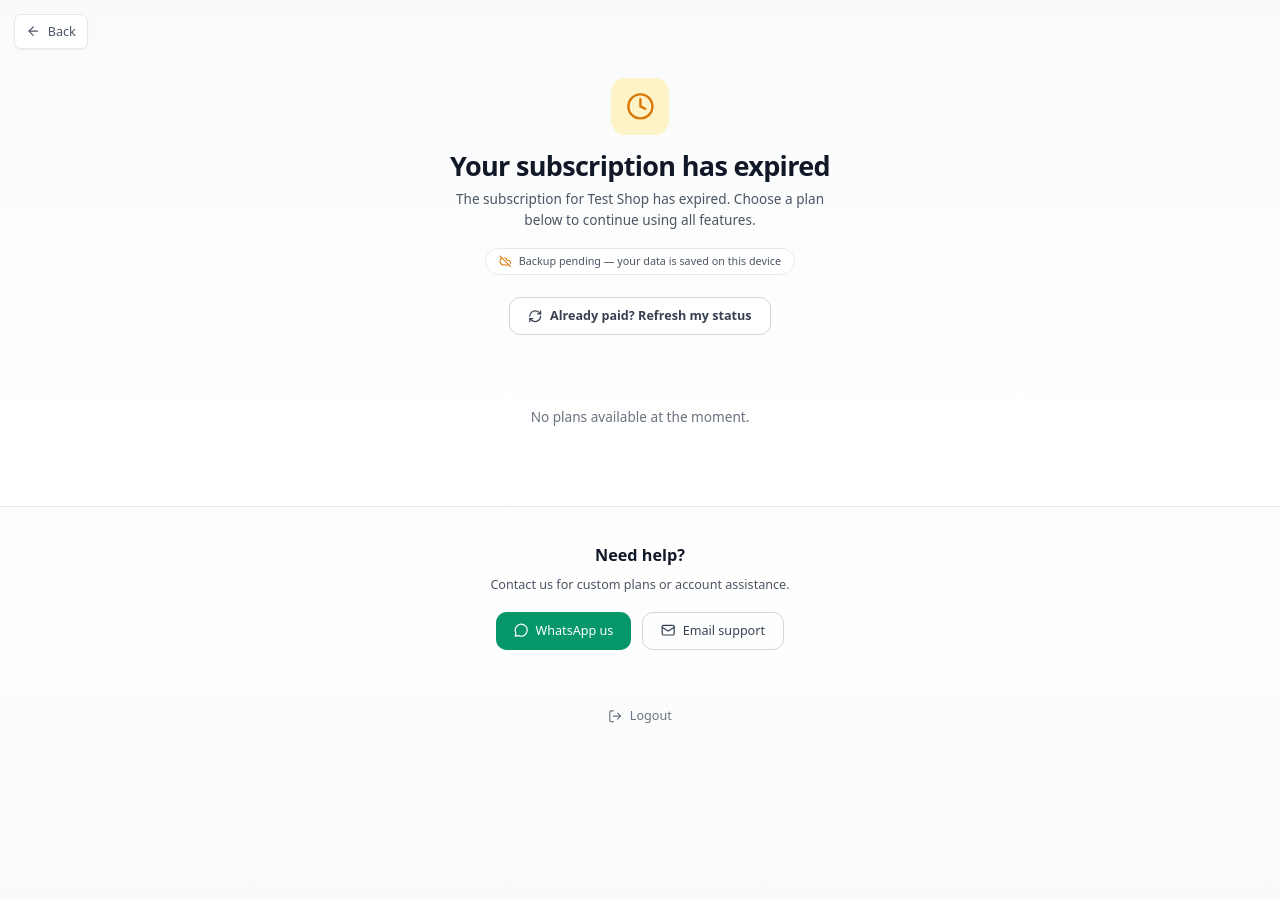
Test: TrialExpired — "already paid" recovery › distinguishes being offline from having no payment
Click the button "Already paid? Refresh my status" at (640, 316), box [509,297,771,335]
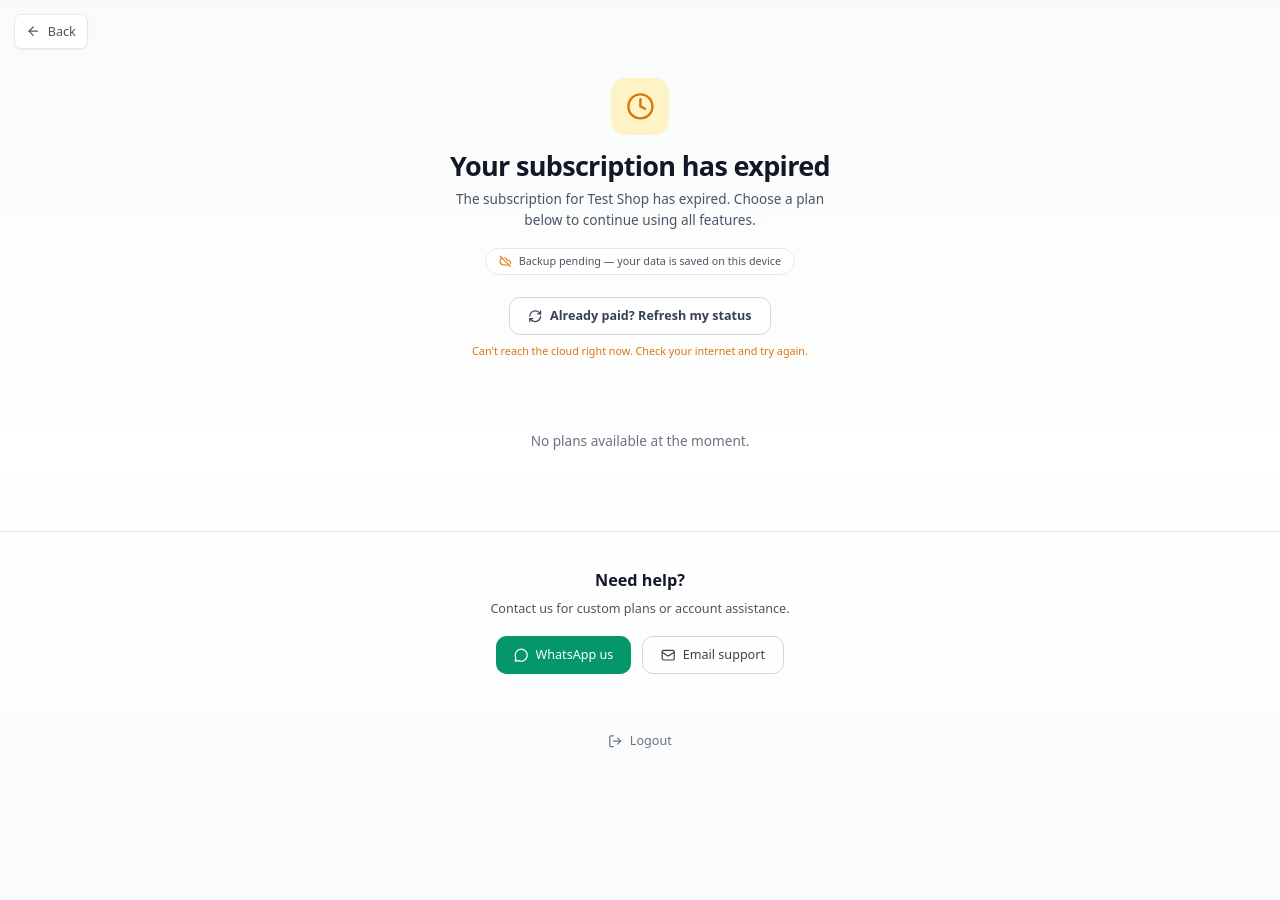
Result: the text "Can't reach the cloud right now. Check your internet and try again." is shown at [472,342,808,359]
